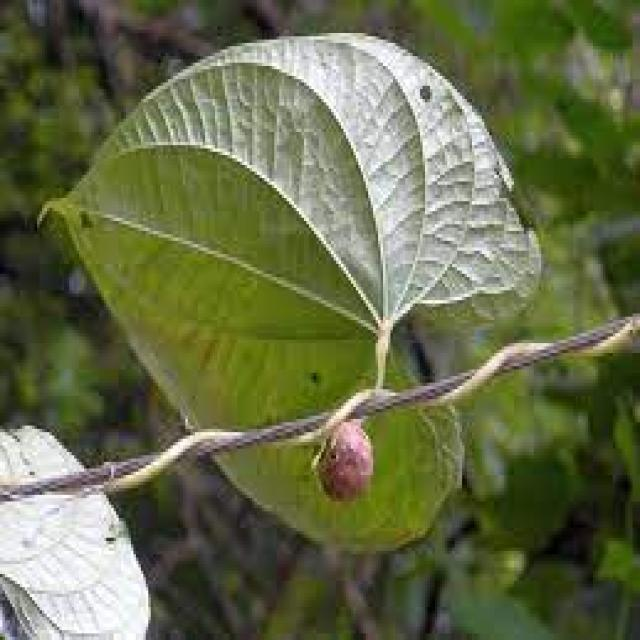Yam: (28, 53, 516, 541)
